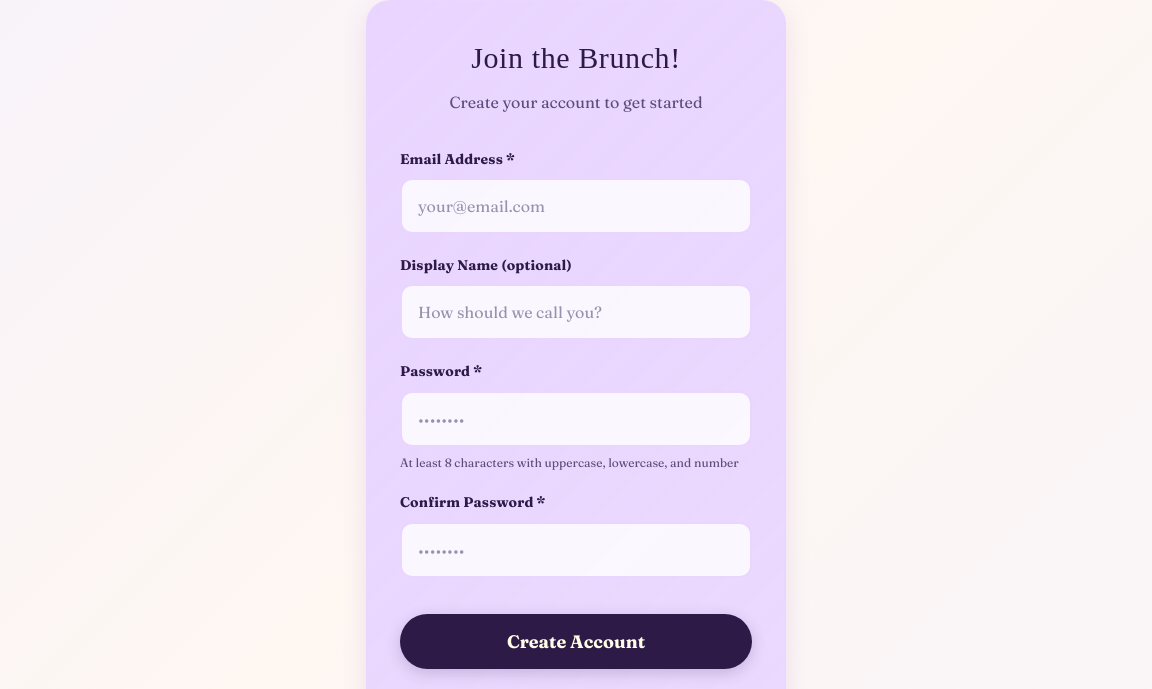
Test: SignUpForm › Form Validation - Required Fields › should show error when submitting empty form
Click the button "Create Account": coordinates (576, 641) [400,614,752,669]
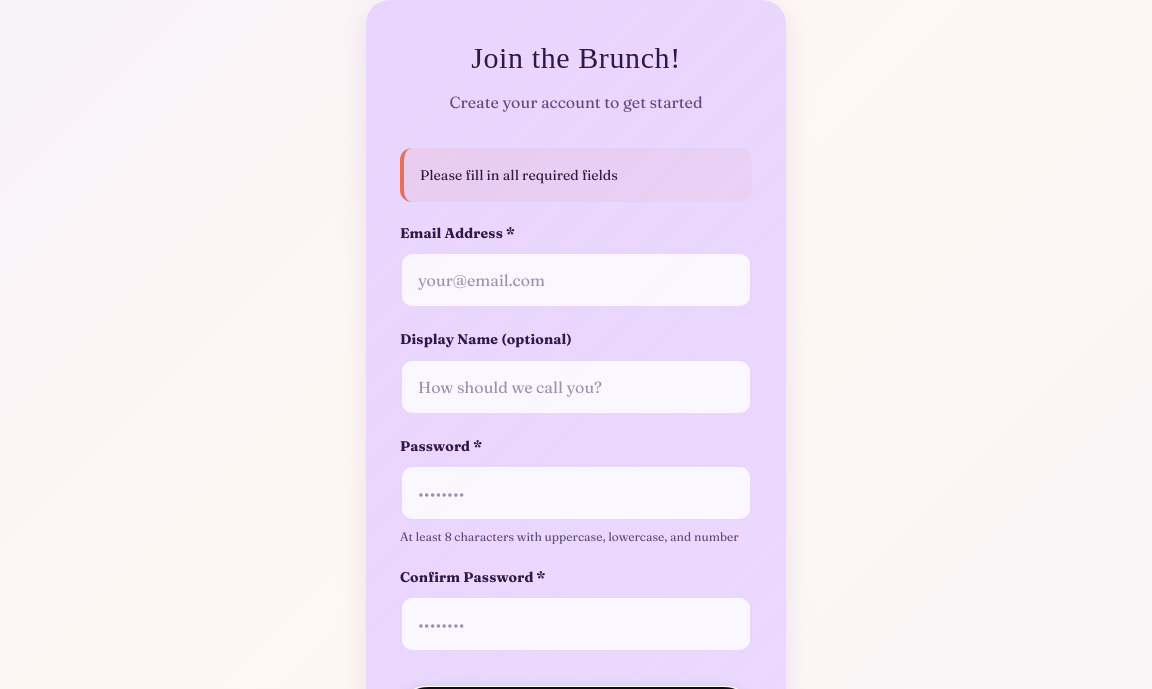
Result: the text "Please fill in all required fields" is shown at [400,148,752,202]
